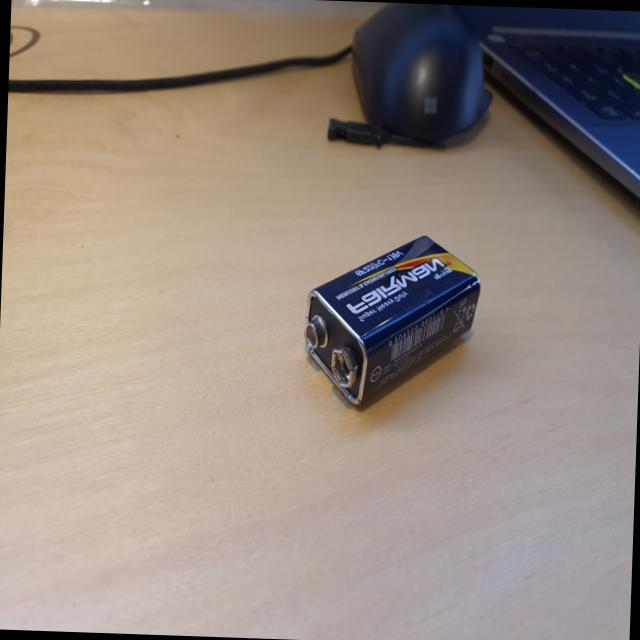battery-etc-etc: (296, 222, 484, 416)
